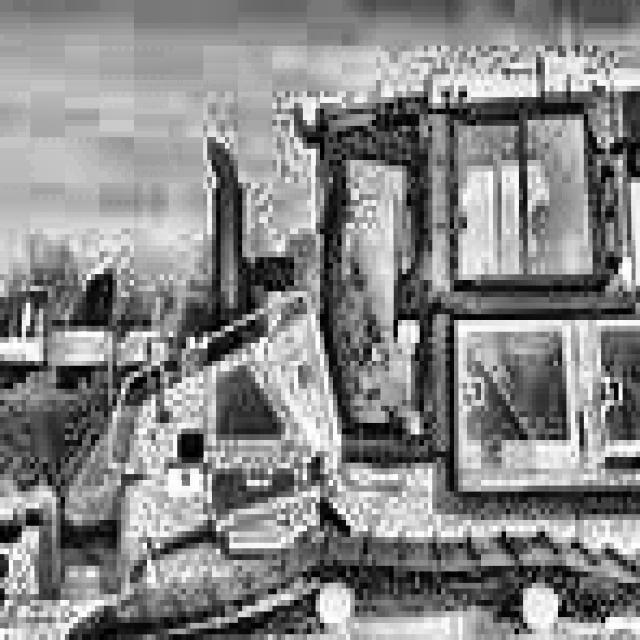buldozerpayloadergrader: (0, 11, 640, 640)
